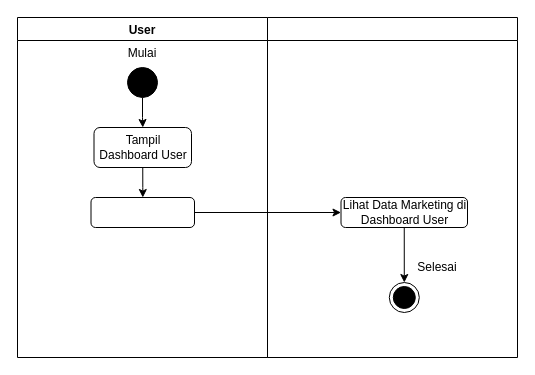
Image size: 535x375. Some labels were removed from this diagram. Each missing label, with the box of its shape:
Akses menu Dashboard User: (90, 196, 194, 228)
Sistem: (266, 16, 518, 358)
